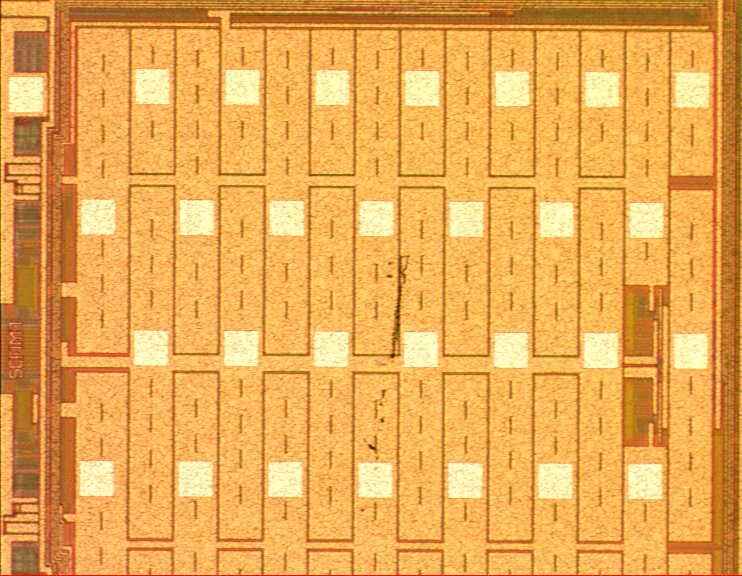SCRATCH: (353, 244, 416, 515)
